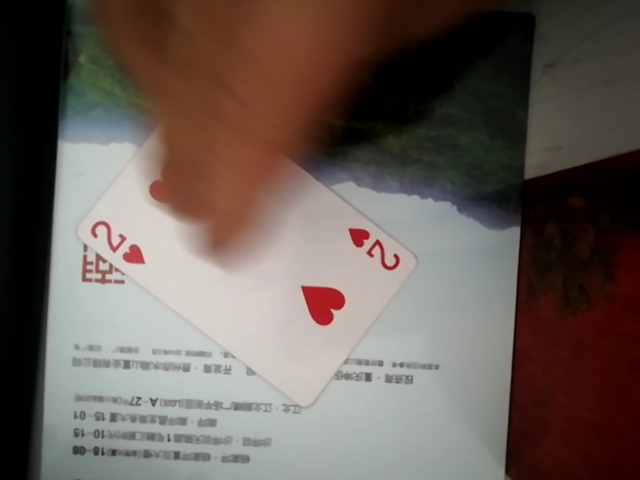hx 2: (51, 111, 421, 398)
